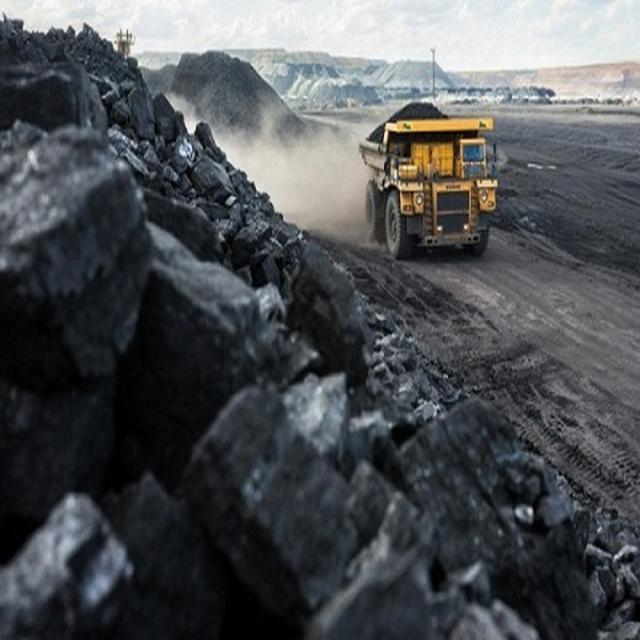dump_truck: (356, 99, 499, 258)
